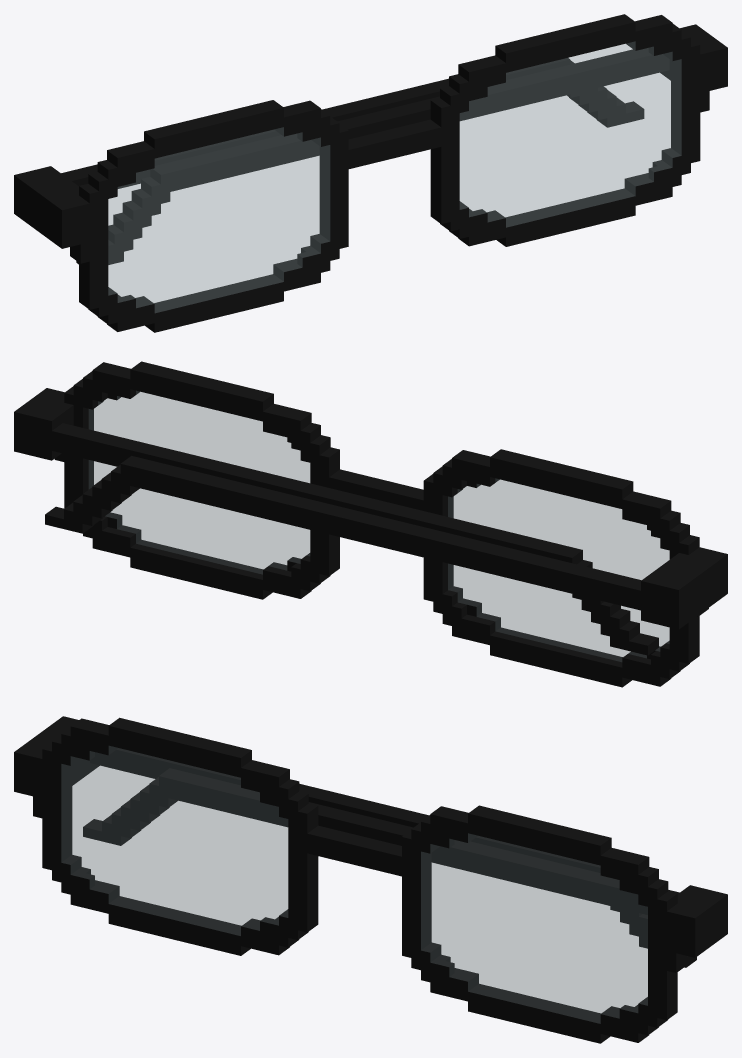
Rendered from glasses_eye.glb.
The picture shows the model from 3 angles, top to bottom: view 1: azimuth 30°, elevation 25°; view 2: azimuth 150°, elevation 25°; view 3: azimuth 330°, elevation 25°; orthographic projection. The views are drawn at different scales.
Visible parts, largest first — view 1: glasses_eye:compound; view 2: glasses_eye:compound; view 3: glasses_eye:compound.
Part boxes in pixels (bbox=[...]): glasses_eye:compound: bbox=[14, 14, 727, 332]; glasses_eye:compound: bbox=[14, 361, 727, 687]; glasses_eye:compound: bbox=[14, 716, 727, 1043].
Bounding box in the file's own units: 0.144 × 0.04 × 0.018.
